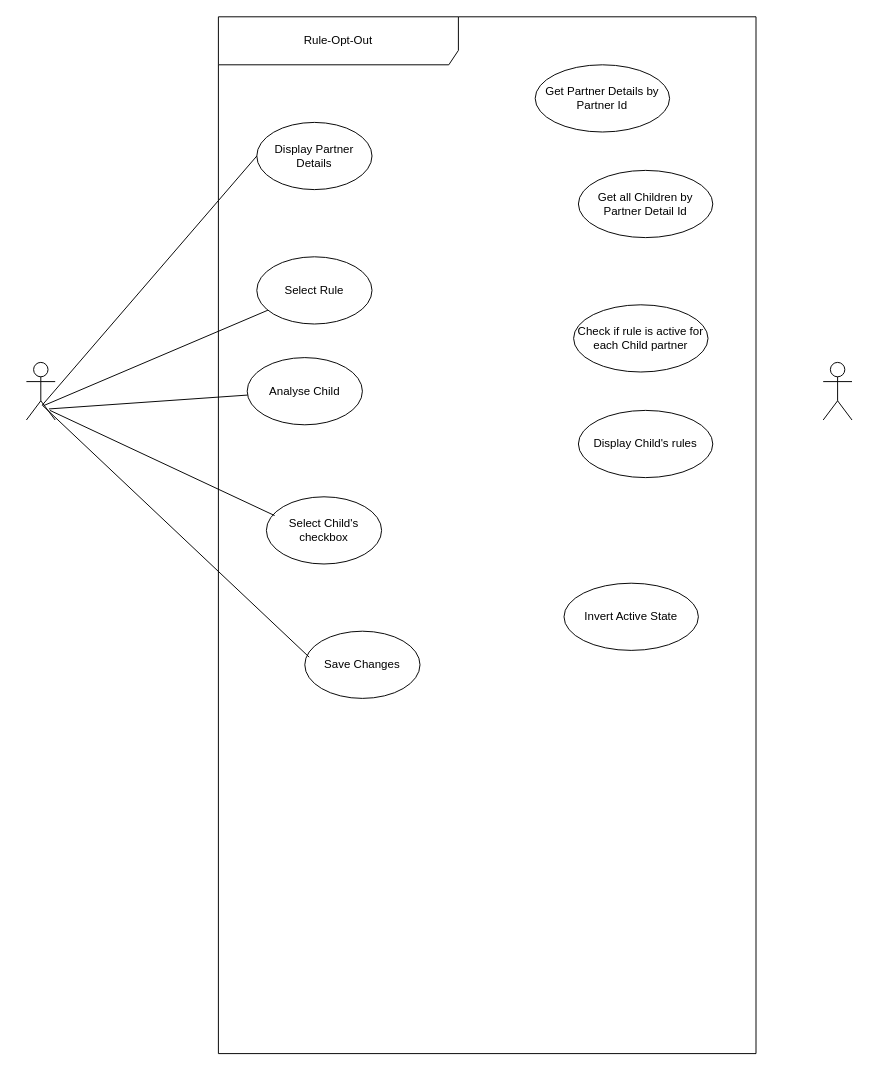
Some shapes in this 869 by 1070 pixel diagram are drawn without their labels. Here are the shapes that lost their labels. From the top down, the centre of each, then its label:
At point (40, 390): "Tech Ops".
At point (837, 390): "DBO".
